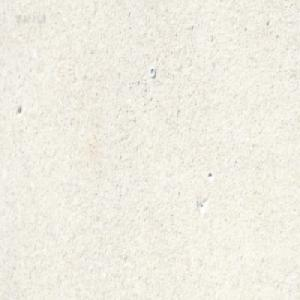Washer: (149, 66, 155, 78)
